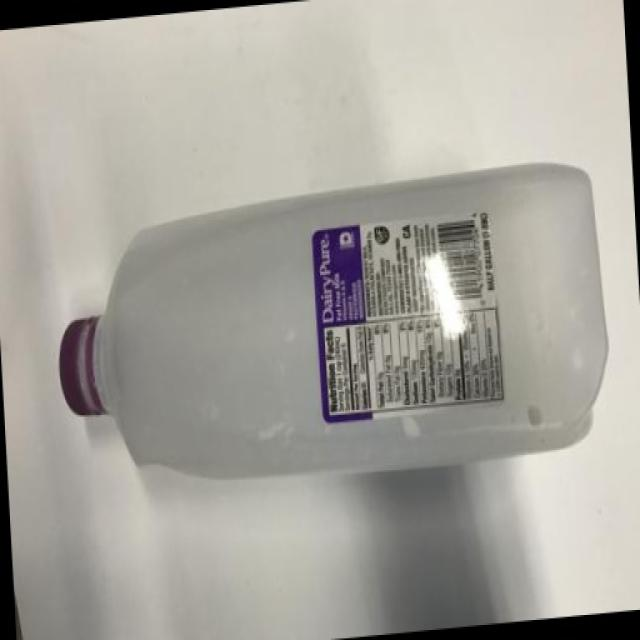plastico: (45, 146, 614, 514)
